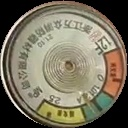green: (83, 93, 115, 123)
needle: (78, 89, 98, 117)
red: (101, 47, 125, 99)
yellow: (37, 101, 88, 128)
